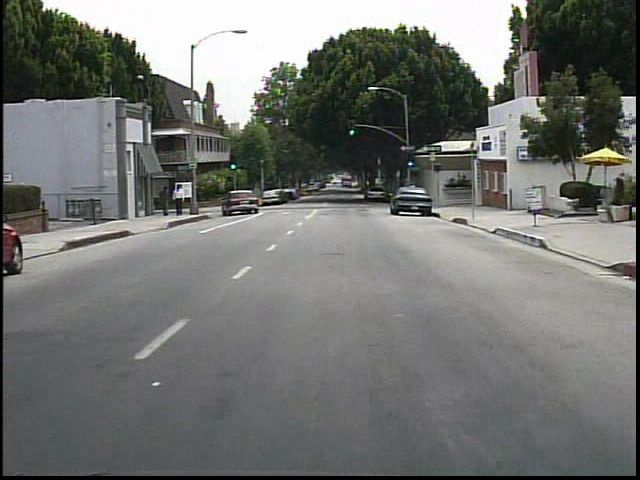person: (159, 184, 175, 217), (174, 185, 187, 217)
